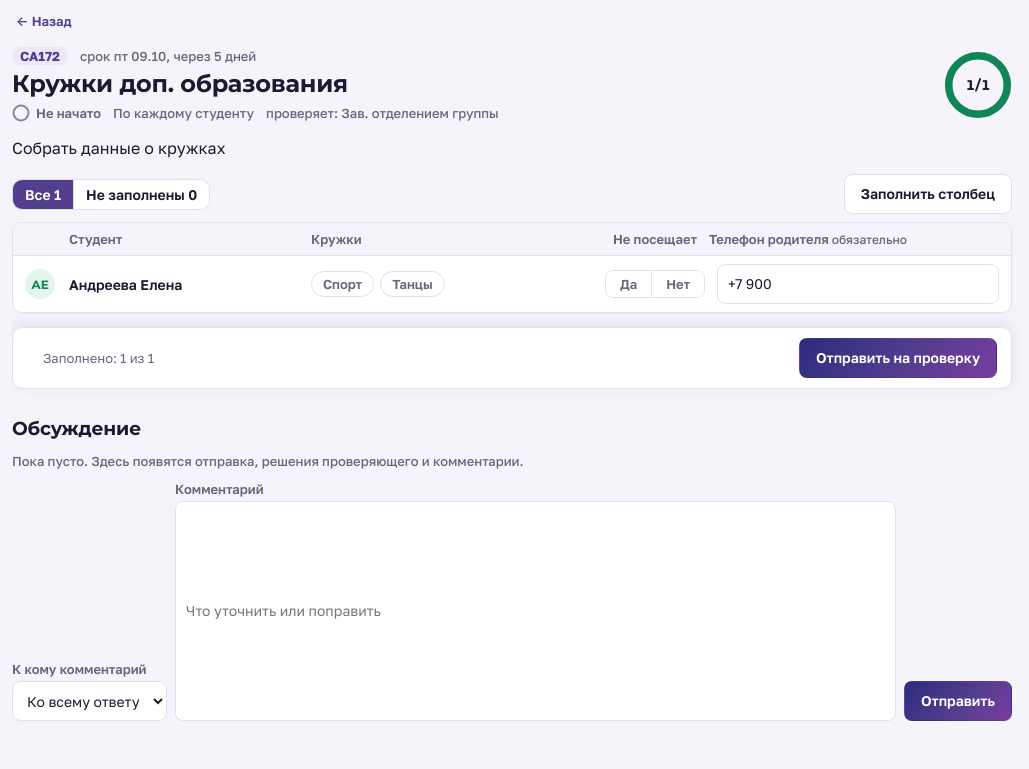
Test: TaskAssignmentPage — заполнение и автосохранение › отказ сервера при отправке показывается, правка остаётся доступной
Click the button "Отправить на проверку" at {"x": 898, "y": 358}, box [799, 338, 997, 378]
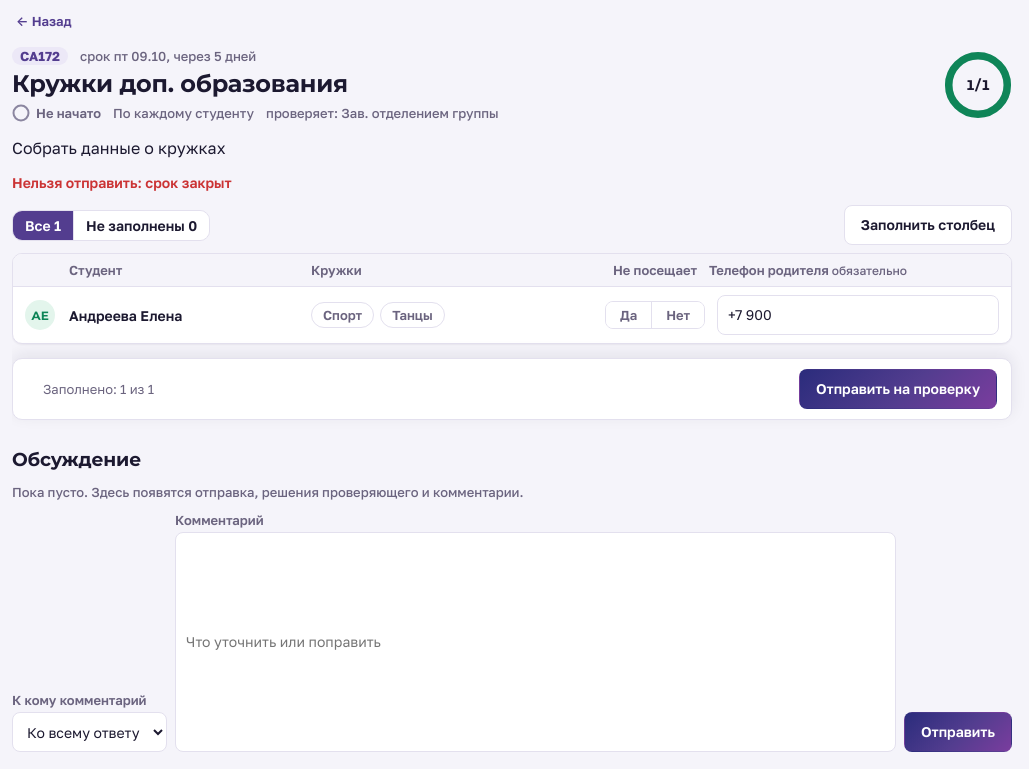
Expected: the field named "Телефон родителя: Андреева Елена" is enabled, [717, 295, 999, 335]
Expected: the message reads "Нельзя отправить: срок закрыт", [12, 174, 232, 191]
